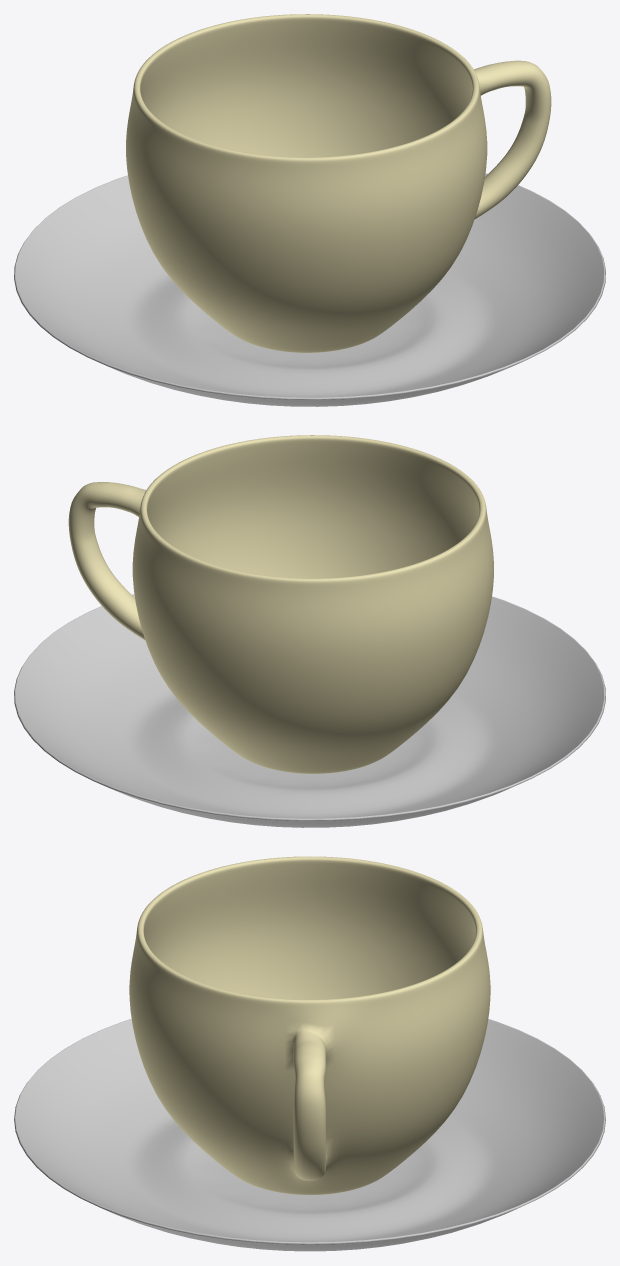
Rendered from 3d_cup_model_highpoly.glb.
The picture shows the model from 3 angles, top to bottom: view 1: azimuth 30°, elevation 25°; view 2: azimuth 150°, elevation 25°; view 3: azimuth 270°, elevation 25°; orthographic projection.
Parts seen in each view (by area): view 1: Cylinder, Circle; view 2: Cylinder, Circle; view 3: Cylinder, Circle.
Boxes of the visible parts, x1,y1,x2,y2 form: Cylinder: (126, 14, 551, 352); Circle: (14, 173, 605, 406); Cylinder: (68, 435, 493, 773); Circle: (14, 594, 605, 827); Cylinder: (129, 856, 490, 1194); Circle: (14, 1019, 605, 1251).
Bounding box in the file's own units: 0.7492 × 0.3345 × 0.7492.
